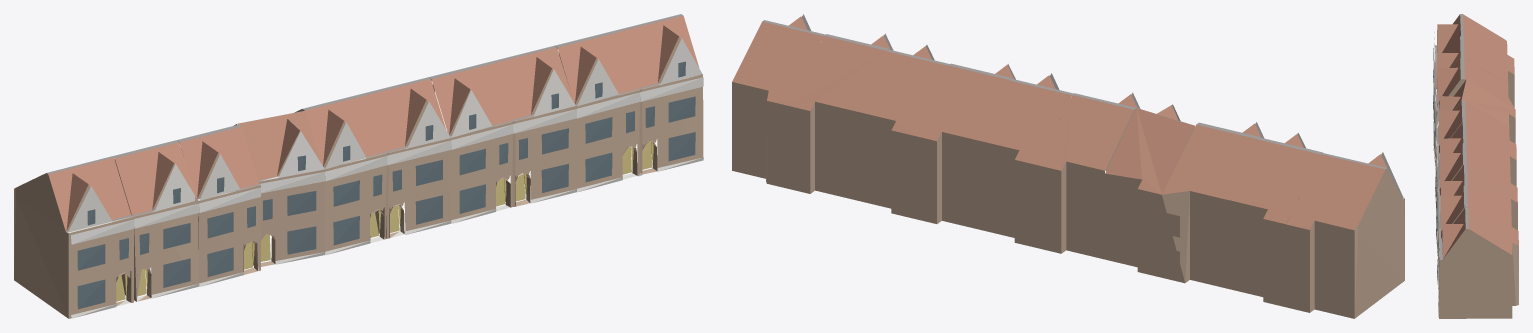
Rendered from chunk-face-zaanhof-1-20.lod2.glb.
The picture shows the model from 3 angles, left to right: view 1: azimuth 30°, elevation 25°; view 2: azimuth 150°, elevation 25°; view 3: azimuth 270°, elevation 25°; orthographic projection. The views are drawn at different scales.
Parts seen in each view (by area): view 1: lod2; view 2: lod2; view 3: lod2.
Part boxes in pixels (<box>): lod2: <box>14,14,703,318</box>; lod2: <box>732,14,1404,318</box>; lod2: <box>1433,14,1518,318</box>.
Bounding box in the file's own units: 59.72 × 11.65 × 10.08.
